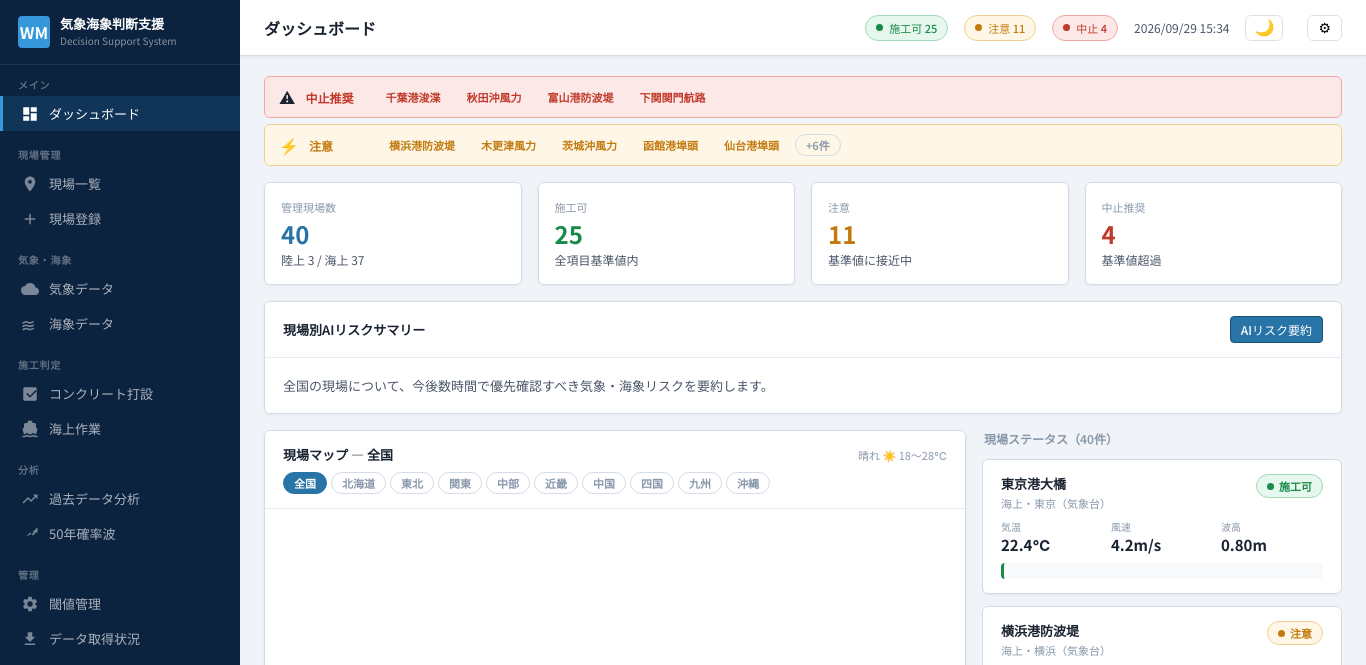
Scenario: AppShell — sidebar navigation › clicking a site row from 現場一覧 navigates to site-detail and shows breadcrumb
Click the element with class "sidebar-item" showing "現場一覧".
click(61, 184)  # box [21,174,101,193]
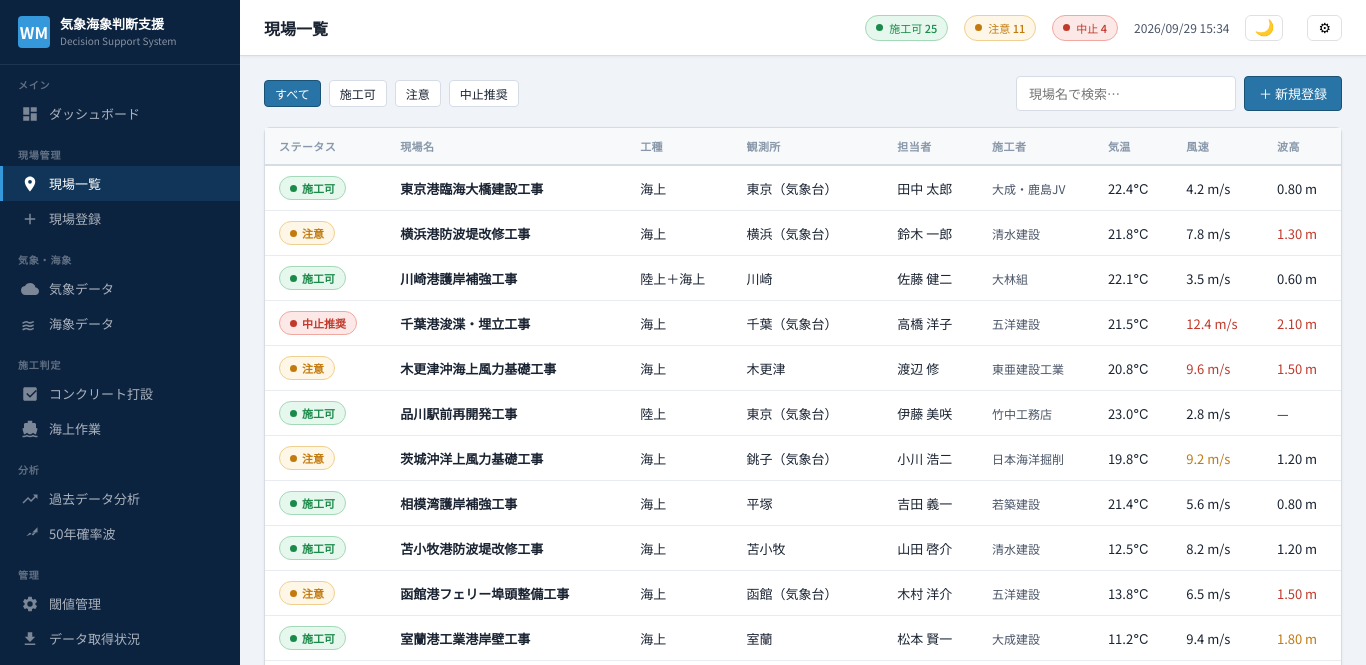
Now the 1st row with class "clickable" is shown
Click the 1st row with class "clickable".
click(803, 188)  # box [265,165,1341,210]
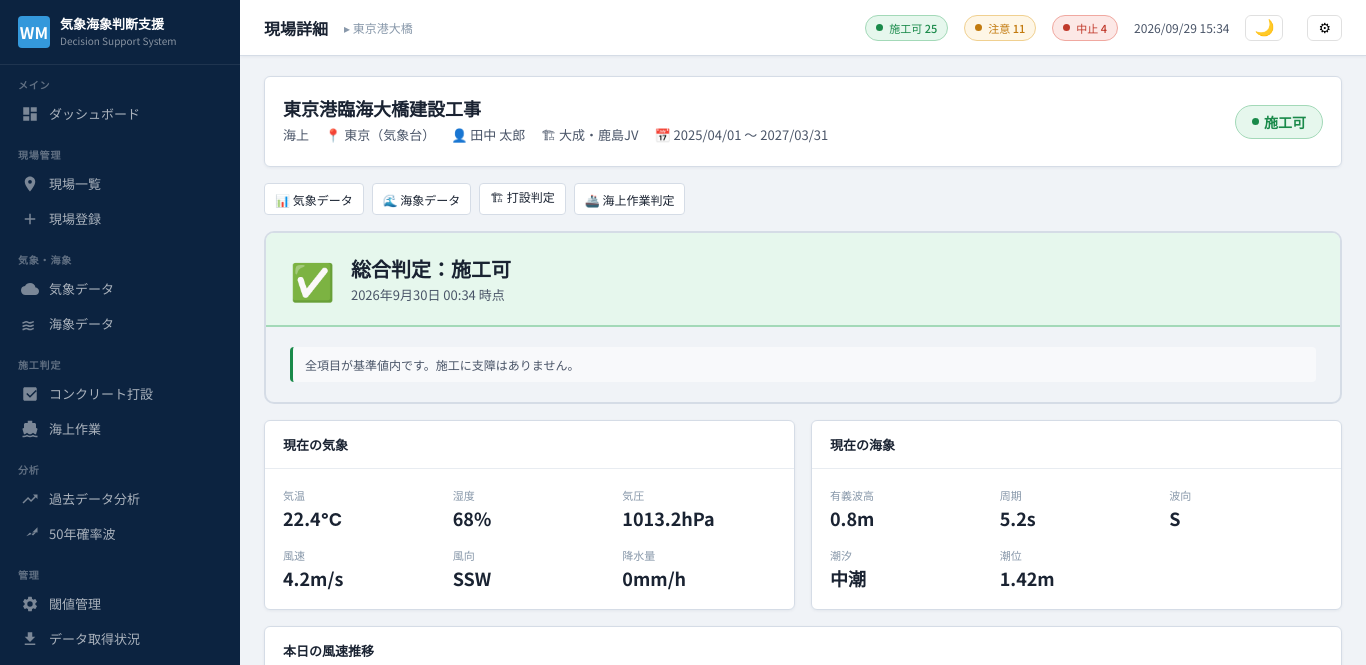
Now the text with class "header-title" reads "現場詳細", box [264,16,328,40]
Now the text "▸ 東京港大橋" is shown, box [344,19,413,36]
Now the text with class "header-breadcrumb" shows "▸", box [344,19,353,36]
